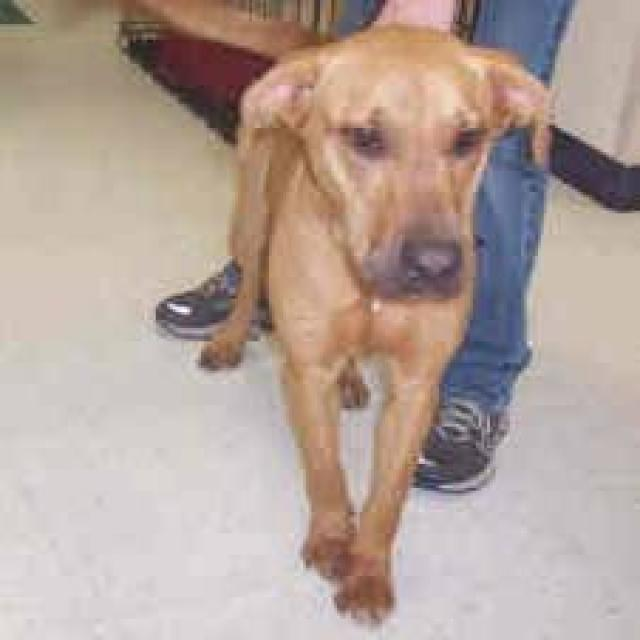dogs: (194, 20, 566, 637)
